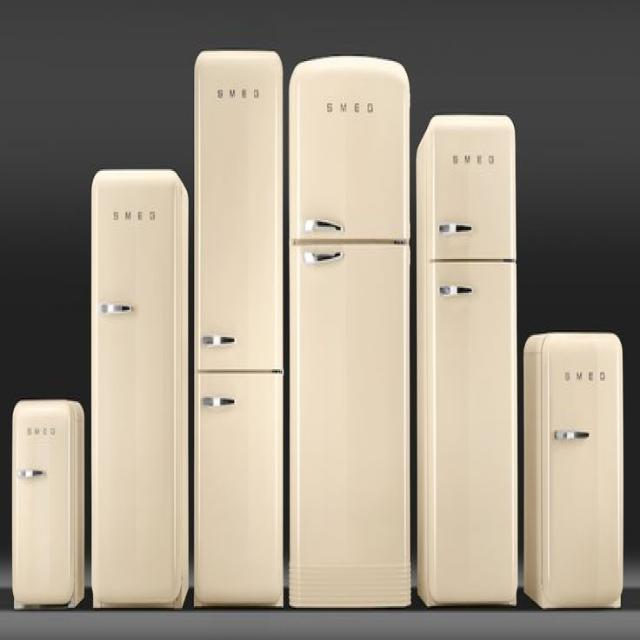obstacle: (288, 54, 412, 608), (416, 112, 518, 608), (194, 47, 284, 608), (90, 166, 189, 608)
